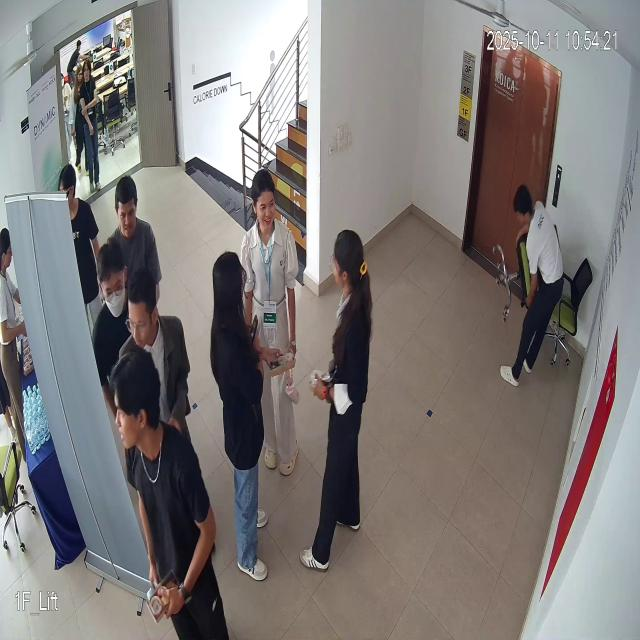face: (246, 166, 284, 243), (112, 170, 142, 243)
